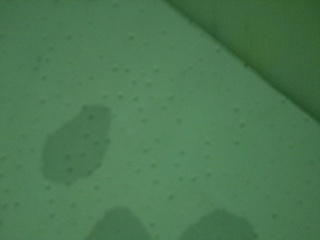Water_detected: (50, 112, 108, 176), (94, 209, 138, 240), (175, 208, 214, 240)
